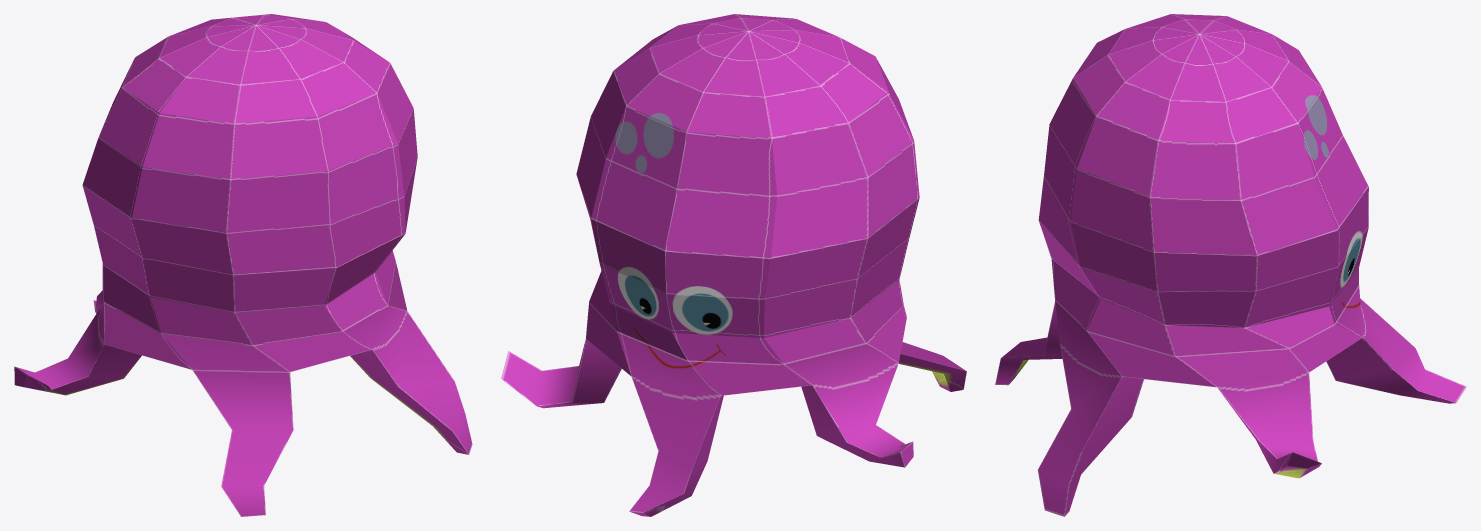
The model's file is pulpo.fbx.
3 renders of one model, left to right at view 1: azimuth 30°, elevation 25°; view 2: azimuth 150°, elevation 25°; view 3: azimuth 270°, elevation 25°, orthographic. The views are drawn at different scales.
Visible parts, largest first — view 1: pSphere1; view 2: pSphere1; view 3: pSphere1.
Part boxes in pixels (x1,y1,x2,y2): pSphere1: (14, 14, 472, 516); pSphere1: (501, 14, 966, 516); pSphere1: (995, 14, 1466, 516).
Bounding box in the file's own units: 11.18 × 11.29 × 11.79.
